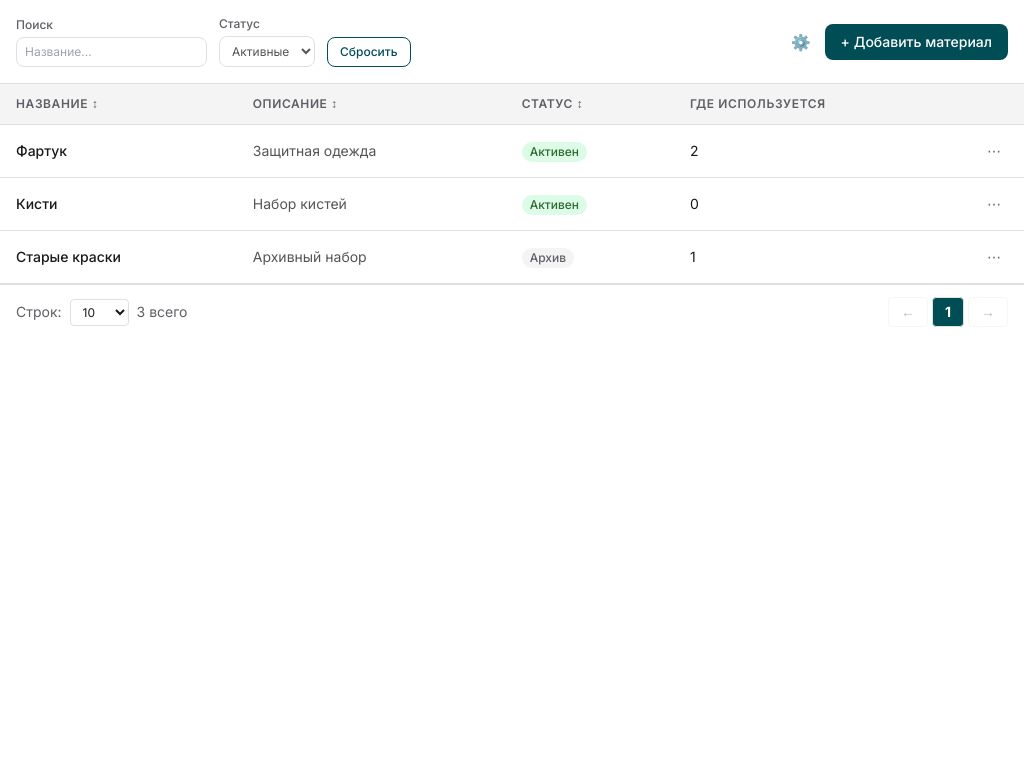
it: MaterialsTable › opens create modal when "Добавить материал" clicked
Expected: the text "Фартук" is shown, [16,142,67,159]
Click the button "+ Добавить материал".
click(916, 42)  # box [825,24,1008,60]
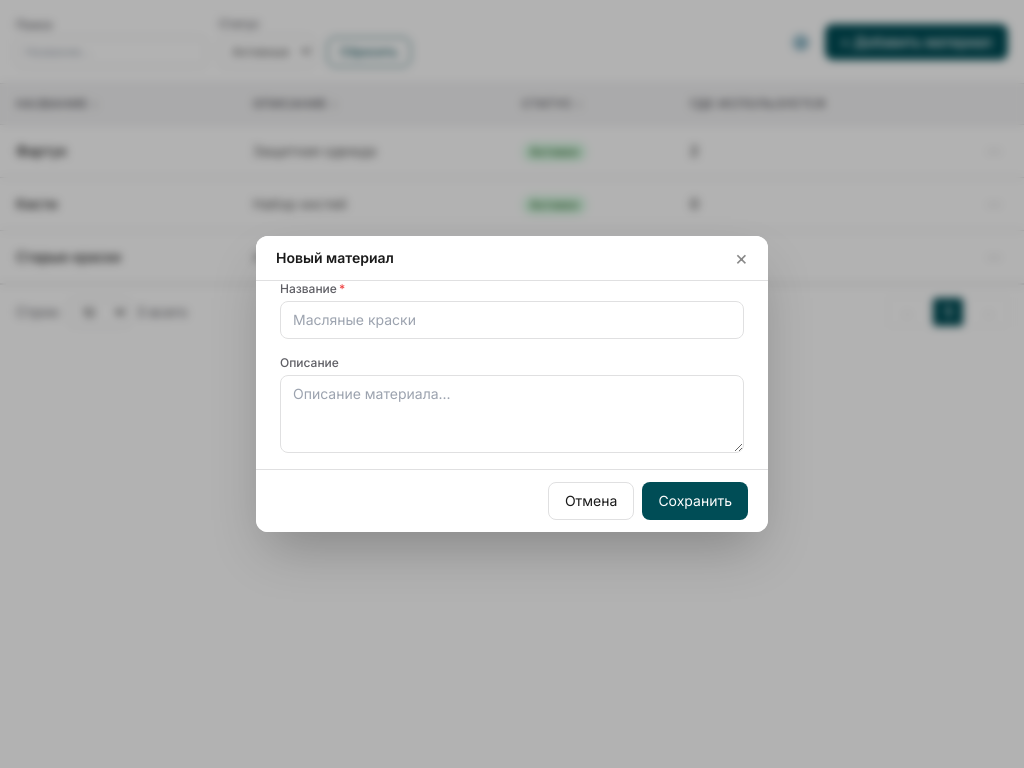
Expected: the heading "Новый материал" is shown, [276,248,394,268]
